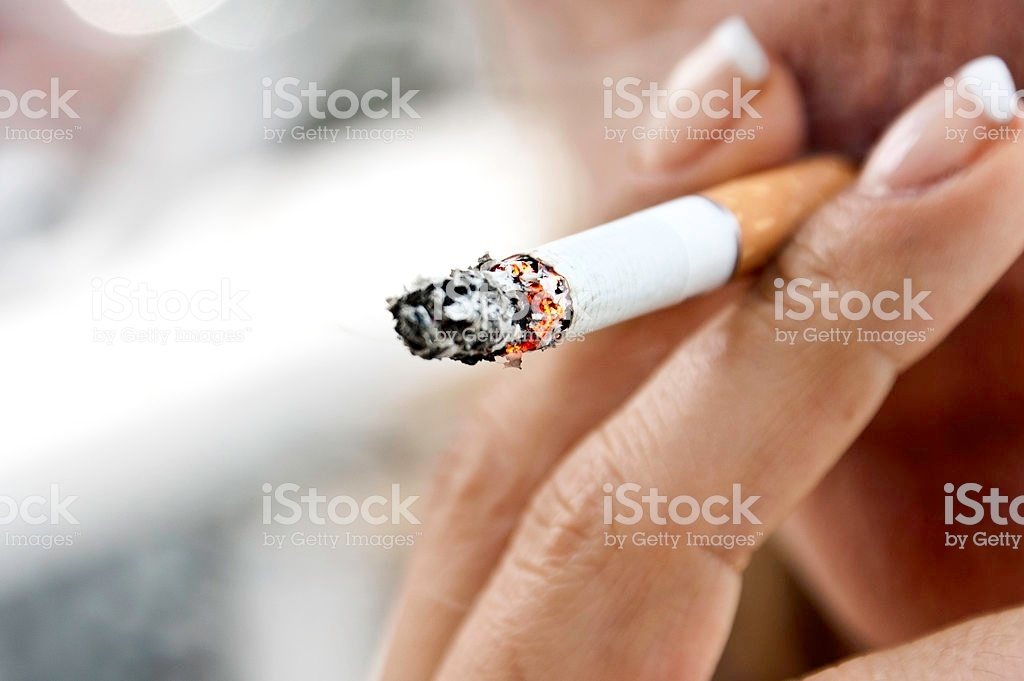sigaretta: (410, 152, 854, 356)
